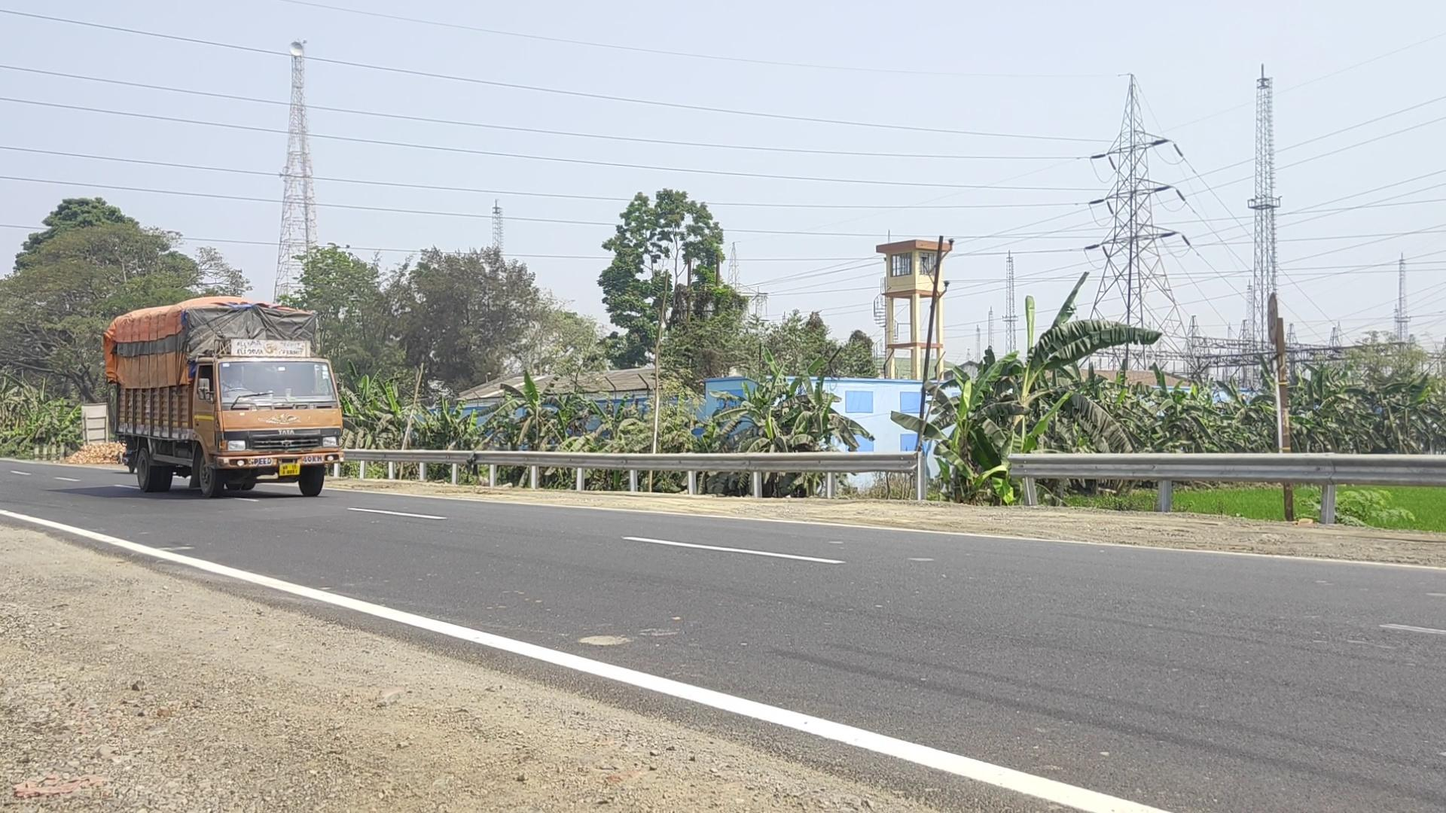truck: (104, 296, 344, 499)
